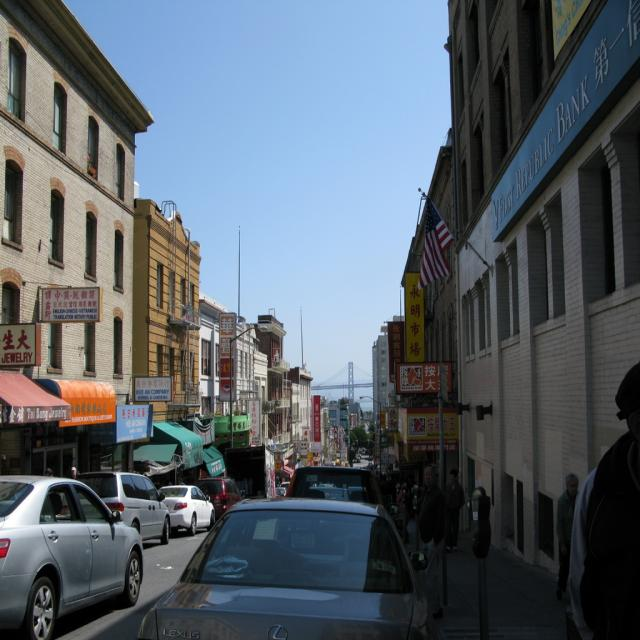car: (0, 474, 141, 638)
